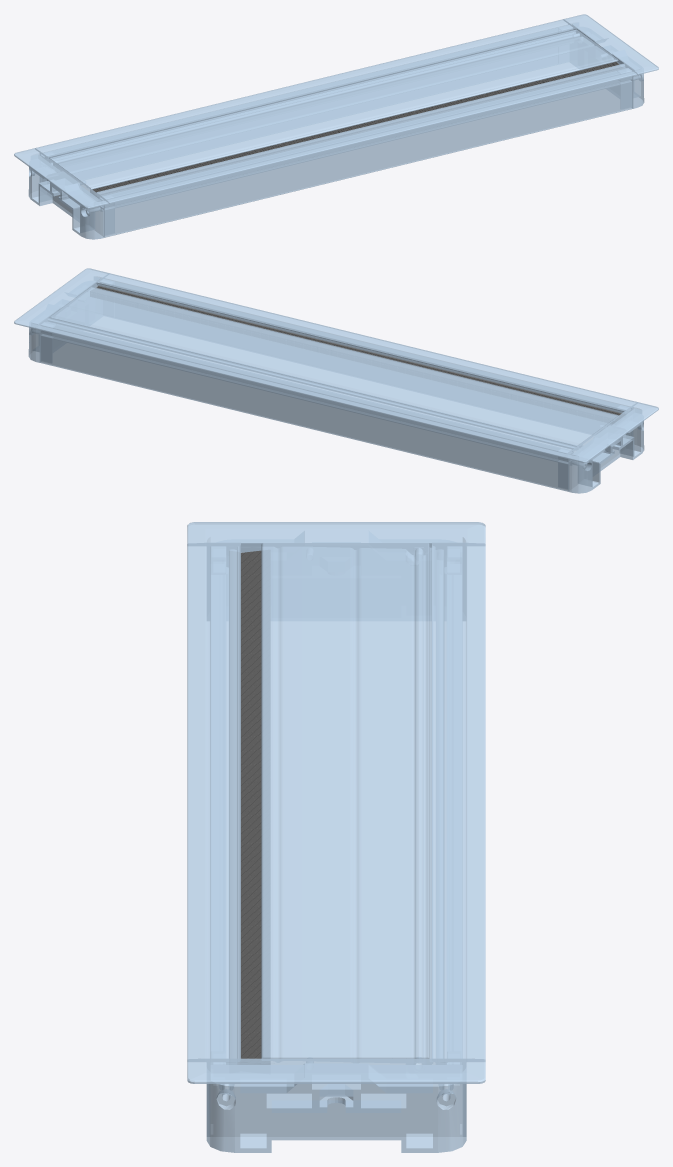
The model's file is LKAC250000.glb.
The picture shows the model from 3 angles, top to bottom: view 1: azimuth 30°, elevation 25°; view 2: azimuth 150°, elevation 25°; view 3: azimuth 270°, elevation 25°; orthographic projection. The views are drawn at different scales.
Visible parts, largest first — view 1: 9, 8, 7, 2, 10, 6; view 2: 7, 8, 9, 2, 10, 6; view 3: 8, 9, 7, 6, 2, 10.
Boxes of the visible parts, box(x1,y1,x2,y2) form: 9: box(96, 63, 637, 237); 8: box(49, 29, 618, 189); 7: box(35, 19, 576, 181); 2: box(90, 62, 623, 196); 10: box(14, 148, 109, 239); 6: box(563, 14, 658, 108); 7: box(35, 317, 576, 491); 8: box(50, 286, 618, 447); 9: box(96, 273, 637, 435); 2: box(90, 285, 624, 423); 10: box(563, 402, 658, 493); 6: box(14, 268, 109, 362); 8: box(261, 543, 431, 1058); 9: box(187, 542, 240, 1085); 7: box(432, 542, 485, 1059); 6: box(187, 1058, 485, 1152); 2: box(230, 550, 269, 1064); 10: box(187, 522, 485, 620).
Bounding box in the file's own units: 0.512 × 0.0335 × 0.1155.
